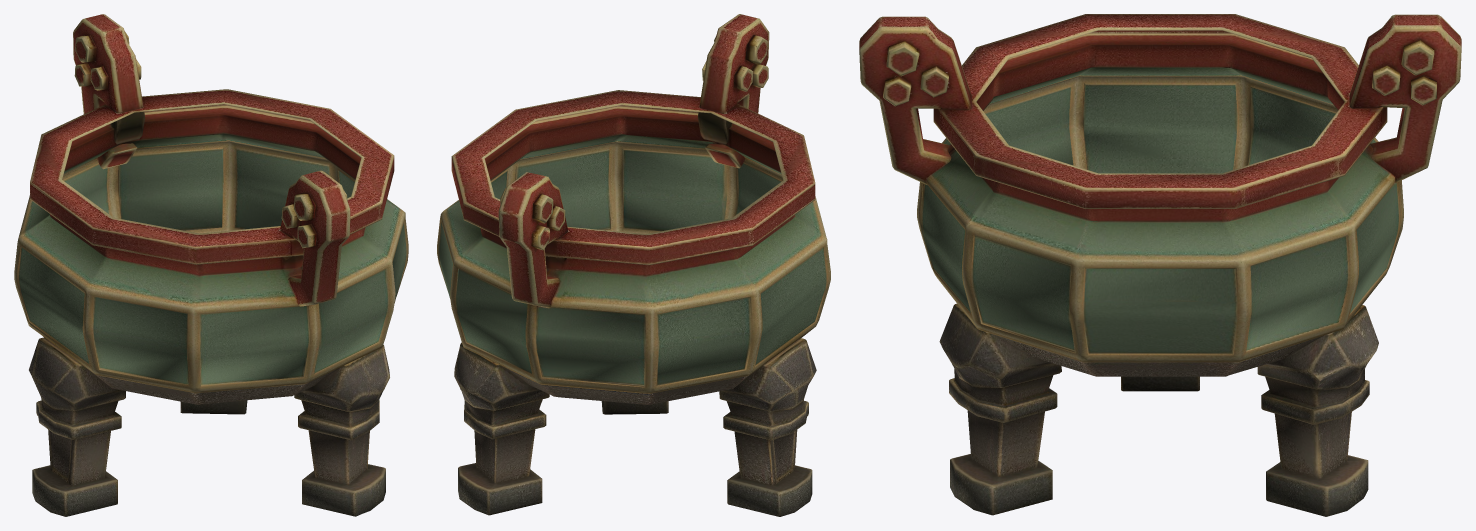
The model's file is tripo_convert_ac314dbb-17fc-47cc-9e5c-545e7886ba80.fbx.
3 renders of one model, left to right at view 1: azimuth 30°, elevation 25°; view 2: azimuth 150°, elevation 25°; view 3: azimuth 270°, elevation 25°, orthographic. The views are drawn at different scales.
Visible parts, largest first — view 1: tripo_node_ac314dbb; view 2: tripo_node_ac314dbb; view 3: tripo_node_ac314dbb.
Boxes of the visible parts, x1,y1,x2,y2 form: tripo_node_ac314dbb: (14,14,408,516); tripo_node_ac314dbb: (437,14,830,516); tripo_node_ac314dbb: (859,14,1461,516).
Bounding box in the file's own units: 0.7559 × 0.7949 × 0.998.
Materials: 1 (1 with a texture image).
